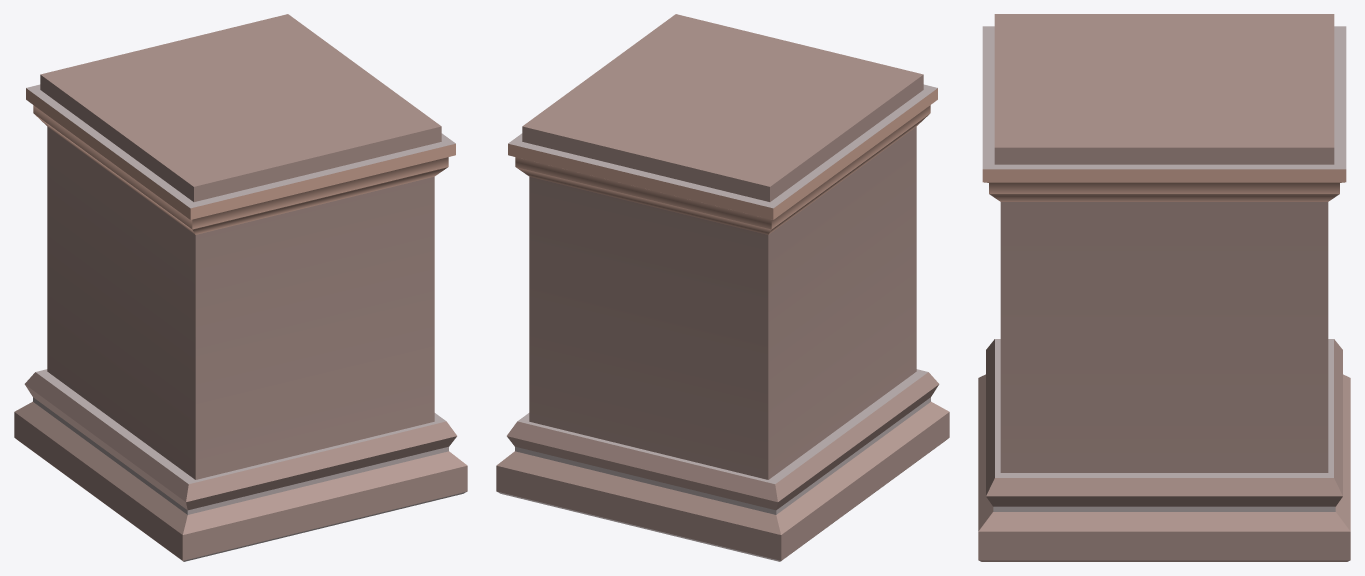
The model's file is column_stand.fbx.
The picture shows the model from 3 angles, left to right: view 1: azimuth 30°, elevation 25°; view 2: azimuth 150°, elevation 25°; view 3: azimuth 270°, elevation 25°; orthographic projection. The views are drawn at different scales.
Visible parts, largest first — view 1: column_stand; view 2: column_stand; view 3: column_stand.
Part boxes in pixels (left/top/right/bottom): column_stand: left=14, top=14, right=467, bottom=561; column_stand: left=496, top=14, right=949, bottom=561; column_stand: left=978, top=14, right=1350, bottom=561.
Size of the model in its own units: 3.79 by 4.66 by 3.88.
